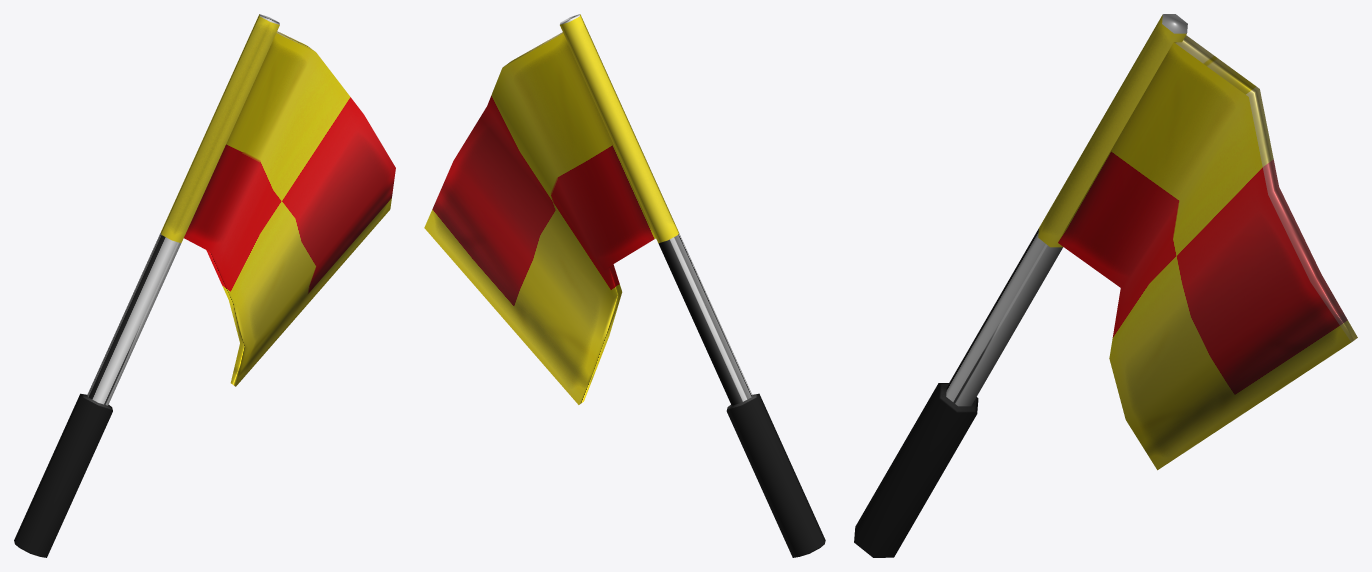
Rendered from flag.fbx.
3 views of the same model, side by side, from view 1: azimuth 30°, elevation 25°; view 2: azimuth 150°, elevation 25°; view 3: azimuth 330°, elevation 25° (orthographic). The views are drawn at different scales.
Parts seen in each view (by area): view 1: flag1; view 2: flag1; view 3: flag1.
Part boxes in pixels (x1,y1,x2,y2): flag1: (14,14,395,557); flag1: (424,14,825,557); flag1: (854,14,1357,557).
Size of the model in its own units: 8.57 by 10.32 by 0.9711.
